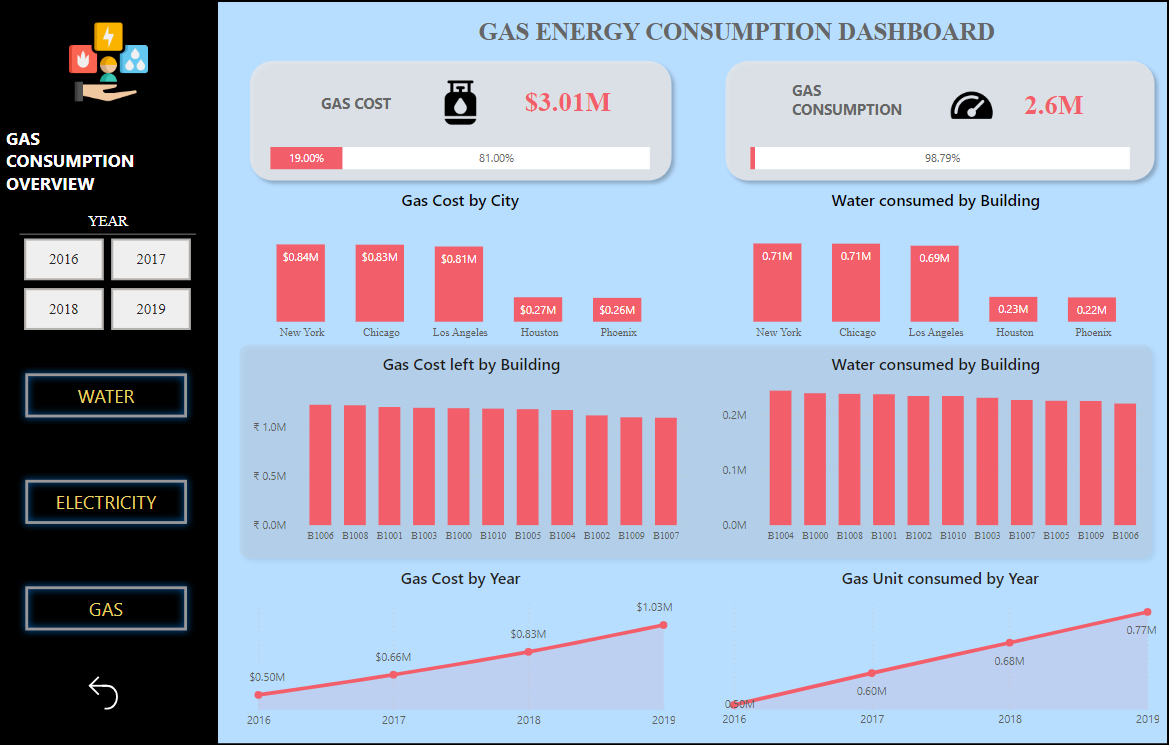

What the dashboard file says about the page in this screenshot:
{"tool":"powerbi","page":{"name":"GAS","canvas":[1280,820],"ordinal":3},"visuals":[{"type":"shape","title":"Total Cost","box":[782.9,60.4,484.9,148.3],"z":0},{"type":"shape","title":"Total Cost","box":[265.1,60.4,476.6,148.3],"z":1000},{"type":"shape","box":[254.8,368.9,1010.7,250.6],"z":2000},{"type":"shape","box":[0,0,240.4,820],"z":3000},{"type":"image","box":[66.3,15.7,108.5,108.5],"z":4000},{"type":"areaChart","fields":{"Category":["Energy Consumptions.Year"],"Y":["All Measures.Gas Cost"]},"box":[265.1,619.5,476.6,184.1],"z":5000},{"type":"areaChart","fields":{"Category":["Energy Consumptions.Year"],"Y":["All Measures.Gas Unit consumed"]},"box":[782.4,619.5,485.9,183.8],"z":6000},{"type":"columnChart","fields":{"Category":["Energy Consumptions.Building"],"Y":["All Measures.Gas Cost left"]},"box":[272.9,387,487.3,214.4],"z":7000},{"type":"clusteredColumnChart","title":"Water consumed by Building","fields":{"Category":["Energy Consumptions.Building"],"Y":["All Measures.Gas Unit consumed"]},"box":[782.4,387,476.1,214.4],"z":8000},{"type":"columnChart","fields":{"Category":["Building Master.City"],"Y":["All Measures.Gas Cost"]},"box":[264.5,208.8,478.9,172],"z":9000},{"type":"clusteredColumnChart","title":"Water consumed by Building","fields":{"Category":["Building Master.City"],"Y":["All Measures.Gas Unit consumed"]},"box":[782.4,208.8,476.1,172],"z":10000},{"type":"card","fields":{"Values":["All Measures.Gas Cost"]},"box":[501.2,75.2,239.5,76.6],"z":11000},{"type":"card","fields":{"Values":["All Measures.Gas Unit consumed"]},"box":[1028.8,78,239.5,76.6],"z":12000},{"type":"hundredPercentStackedBarChart","fields":{"Y":["All Measures.Gas Cost","All Measures.Gas Cost left"]},"box":[292.4,116.9,423.2,108.6],"z":13000},{"type":"hundredPercentStackedBarChart","fields":{"Y":["All Measures.Gas Unit consumed","All Measures.Gas Unit consumed left"]},"box":[814.4,116.9,423.2,108.6],"z":14000},{"type":"textbox","box":[348,100.2,185.2,45.9],"z":15000},{"type":"textbox","box":[860.4,84.9,187.9,64],"z":16000},{"type":"textbox","box":[518.1,16.3,572.4,61.6],"z":17000},{"type":"textbox","box":[5.4,135.9,235.5,90.6],"z":18000},{"type":"image","box":[474.7,84.9,58.5,59.9],"z":19000},{"type":"image","box":[1028.8,86.3,61.3,62.6],"z":20000},{"type":"actionButton","box":[23.2,401.1,191.8,63.9],"z":21000},{"type":"actionButton","box":[23.2,516.9,191.8,63.9],"z":22000},{"type":"actionButton","box":[23.2,632.7,191.8,63.9],"z":23000},{"type":"actionButton","box":[91.9,732.3,64,48.7],"z":24000},{"type":"advancedSlicerVisual","title":"YEAR","fields":{"Values":["Energy Consumptions.Year"]},"box":[23.7,235.3,192.1,133.7],"z":25000}]}

Visuals, with their boxes in screenshot pixels (x1, y1, x2, y2), scaled from the page's 1280x820 canvas onto the 1169x745 screenshot:
"Total Cost" shape: 715:55:1158:190
"Total Cost" shape: 242:55:677:190
shape: 233:335:1156:563
shape: 0:0:220:744
image: 61:14:160:113
areaChart - Energy Consumptions.Year x All Measures.Gas Cost: 242:563:677:730
areaChart - Energy Consumptions.Year x All Measures.Gas Unit consumed: 715:563:1158:730
columnChart - Energy Consumptions.Building x All Measures.Gas Cost left: 249:352:694:546
"Water consumed by Building" clusteredColumnChart: 715:352:1149:546
columnChart - Building Master.City x All Measures.Gas Cost: 242:190:679:346
"Water consumed by Building" clusteredColumnChart: 715:190:1149:346
card - All Measures.Gas Cost: 458:68:676:138
card - All Measures.Gas Unit consumed: 940:71:1158:140
hundredPercentStackedBarChart - All Measures.Gas Cost x All Measures.Gas Cost left: 267:106:654:205
hundredPercentStackedBarChart - All Measures.Gas Unit consumed x All Measures.Gas Unit consumed left: 744:106:1130:205
textbox: 318:91:487:133
textbox: 786:77:957:135
textbox: 473:15:996:71
textbox: 5:123:220:206
image: 434:77:487:132
image: 940:78:996:135
actionButton: 21:364:196:422
actionButton: 21:470:196:528
actionButton: 21:575:196:633
actionButton: 84:665:142:710
"YEAR" advancedSlicerVisual: 22:214:197:335
